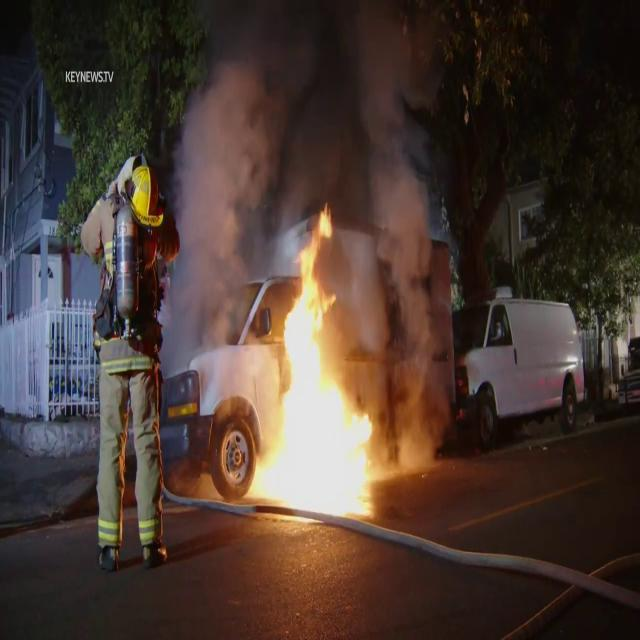Fire: (250, 206, 383, 525)
Smoke: (154, 0, 460, 308)
